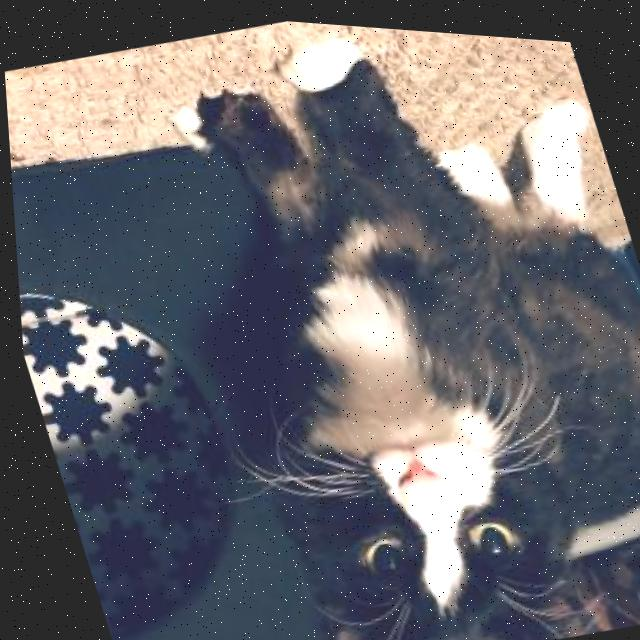Tuxedo: (120, 7, 640, 640)
